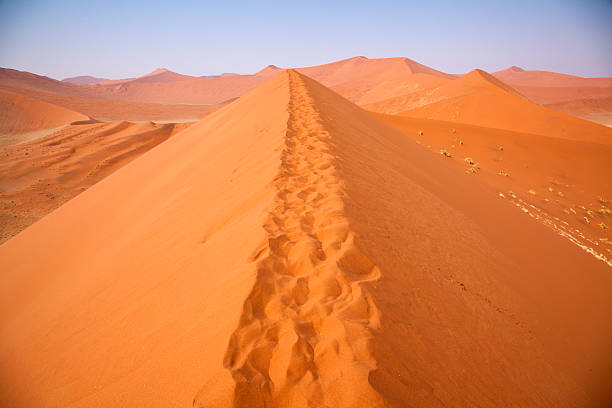human_foot_print: (236, 76, 404, 404)
